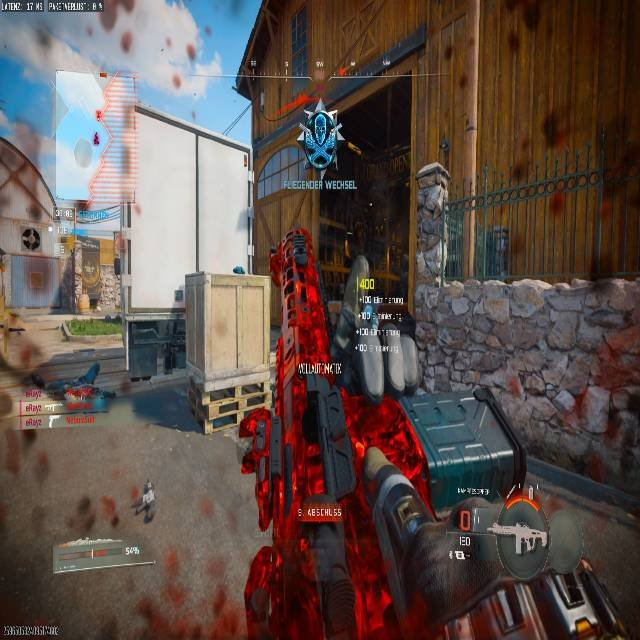player: (232, 265, 246, 273)
